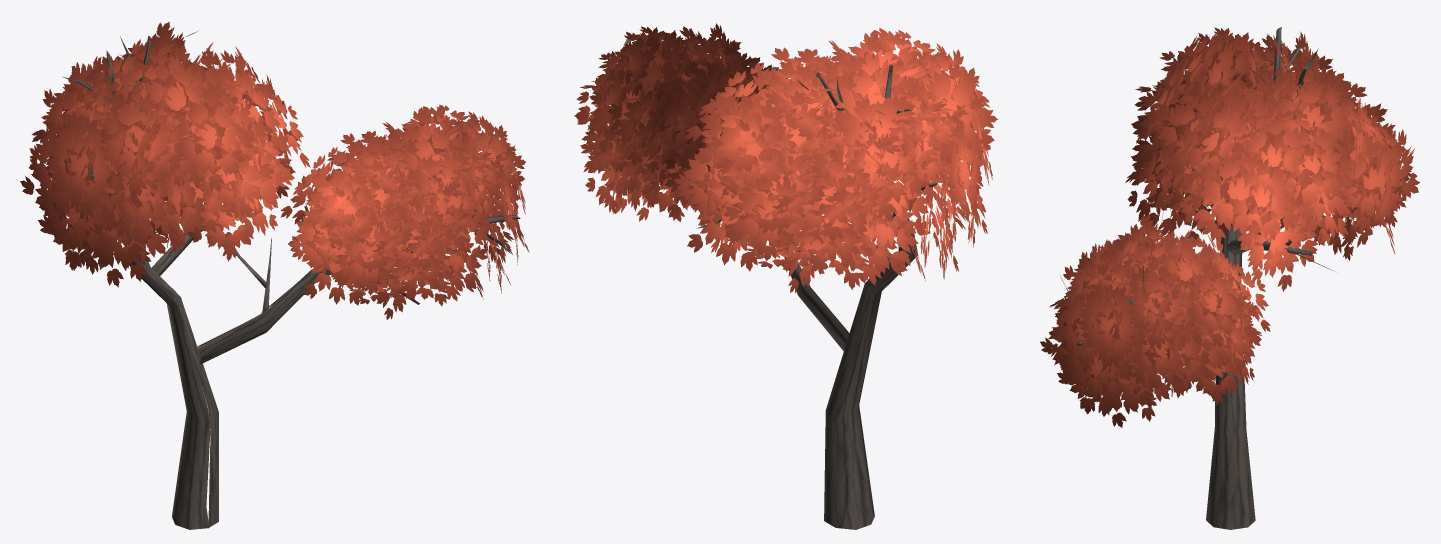
The model's file is mapletree_1.glb.
3 views of the same model, side by side, from view 1: azimuth 30°, elevation 25°; view 2: azimuth 150°, elevation 25°; view 3: azimuth 270°, elevation 25° (orthographic). The views are drawn at different scales.
Visible parts, largest first — view 1: MapleTree_1; view 2: MapleTree_1; view 3: MapleTree_1.
Boxes of the visible parts, bbox=[...] form: MapleTree_1: bbox=[20, 21, 529, 529]; MapleTree_1: bbox=[574, 23, 997, 529]; MapleTree_1: bbox=[1040, 27, 1419, 529].
Bounding box in the file's own units: 6.23 × 6.64 × 4.9.
2 materials, 2 textured.
